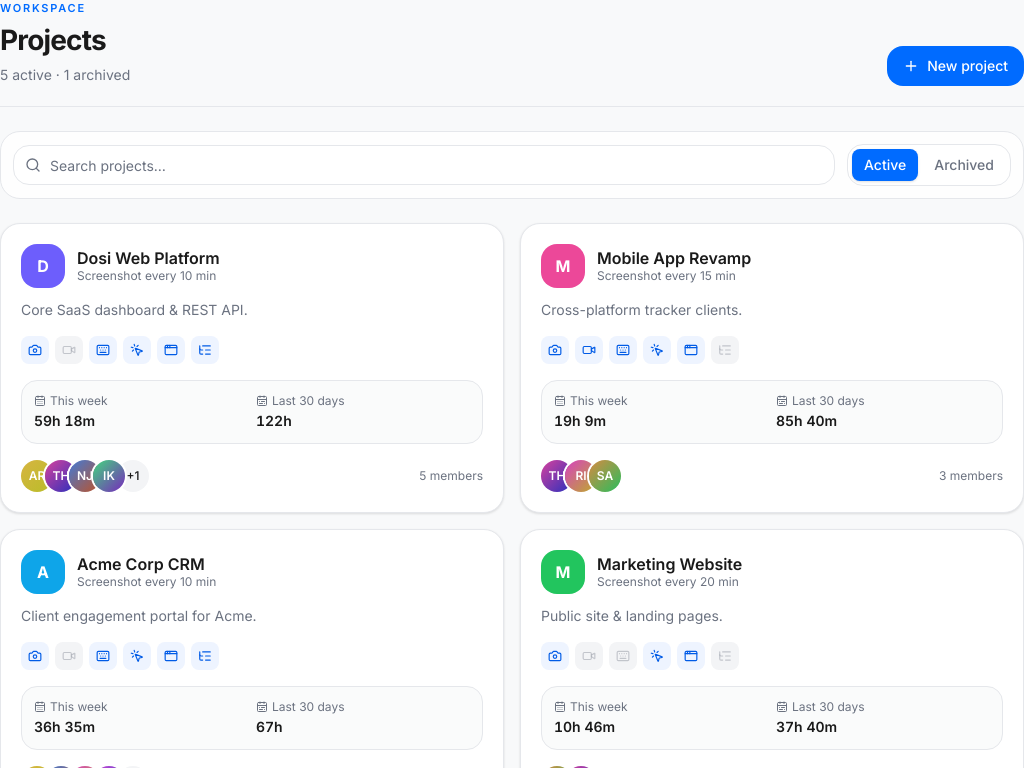
Test case: projects page — create project (owner, demo mode) › completing the wizard closes it and shows the new project card in the active list
expect the text "5 active · 1 archived" is shown: met, box [0,64,130,86]
Click the button "New project": (956, 66) [887,46,1023,86]
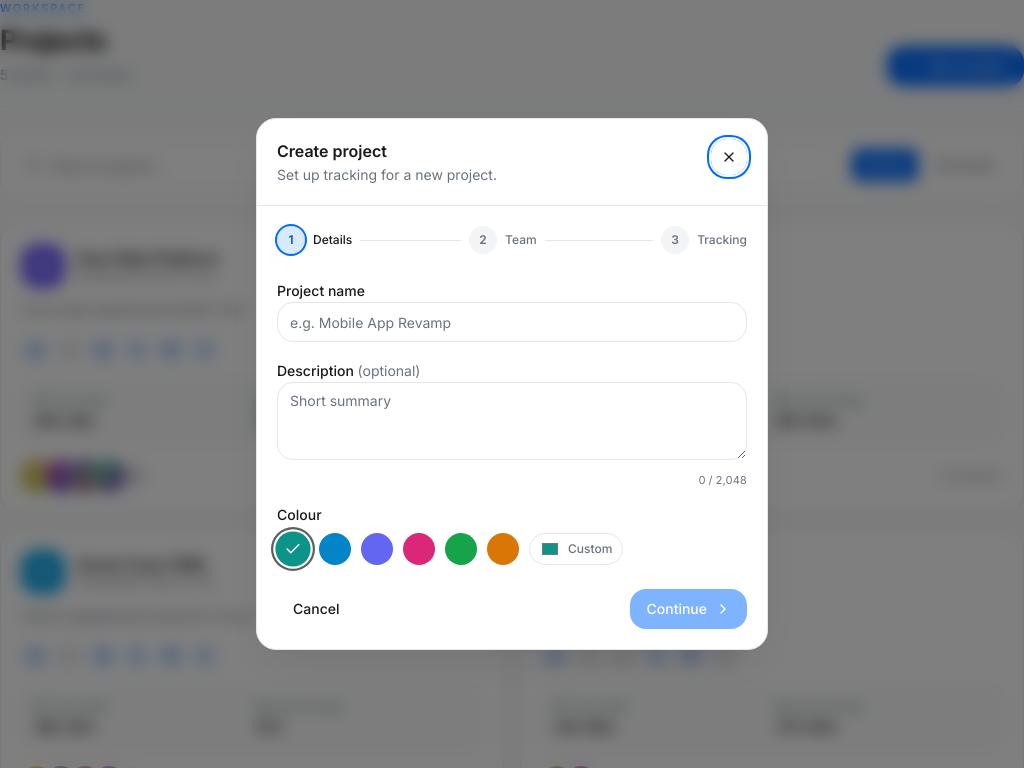
expect the heading "Create project" is shown: met, box [277,141,387,161]
In the field with placeholder "e.g. Mobile App Revamp": (512, 322) [277,302,747,342], type "Orbital Launch"
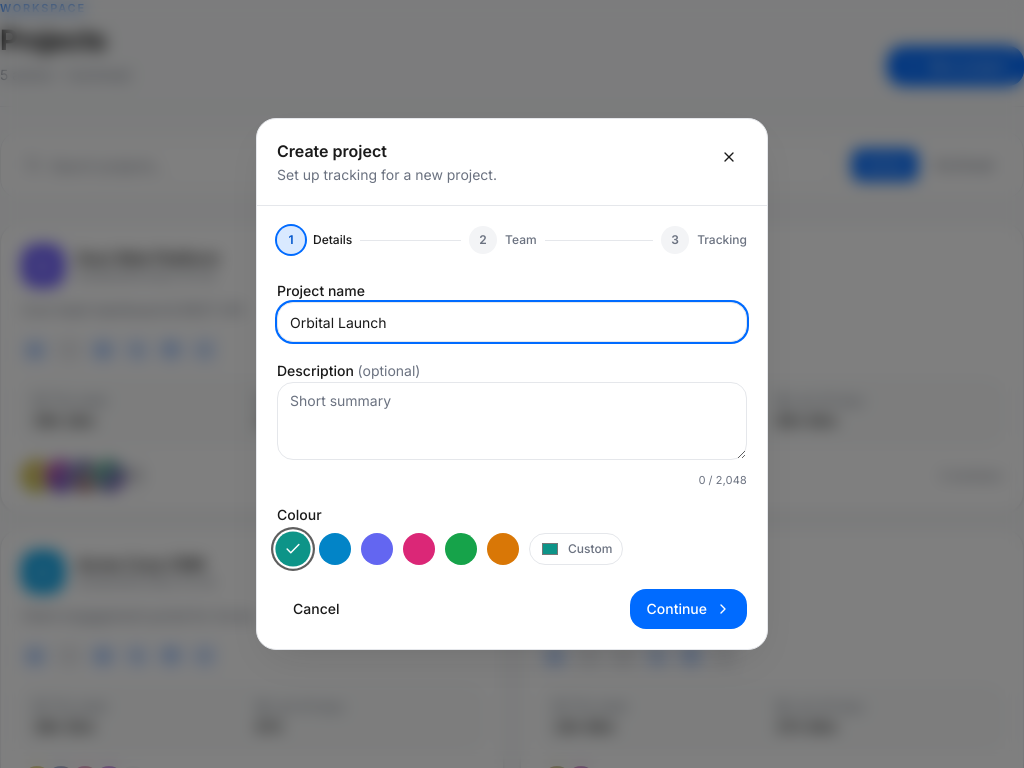
Click the button "Continue": (689, 609) [630,589,747,629]
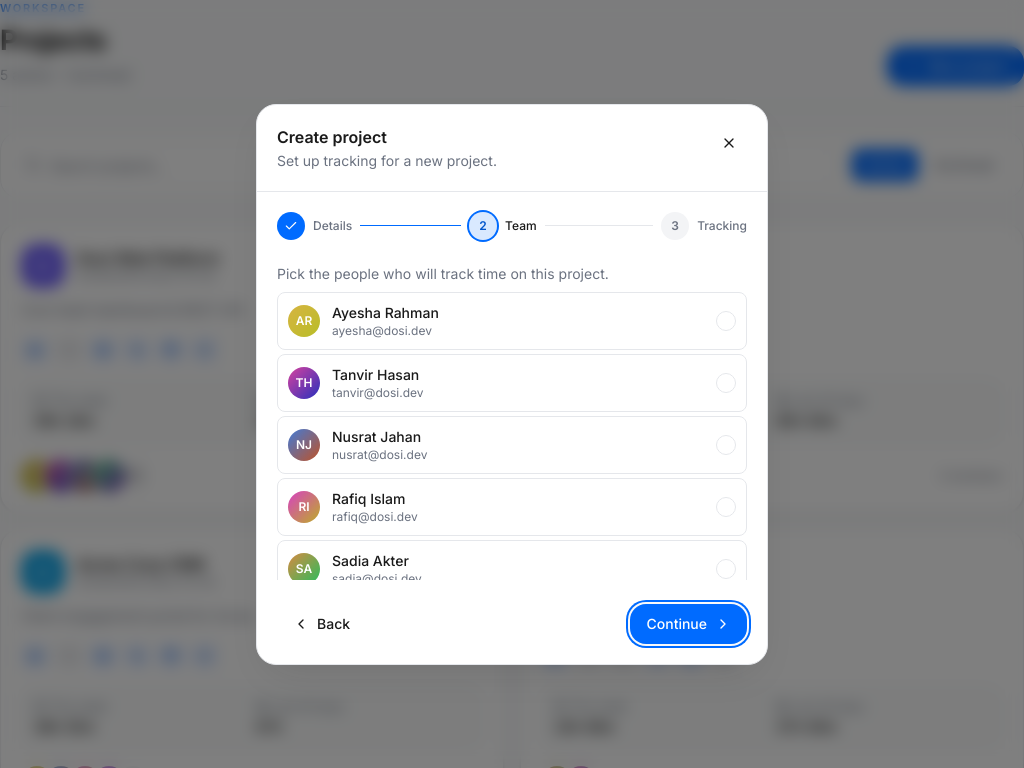
Click the button "Continue": (689, 624) [630,604,747,644]
(page scrolled)
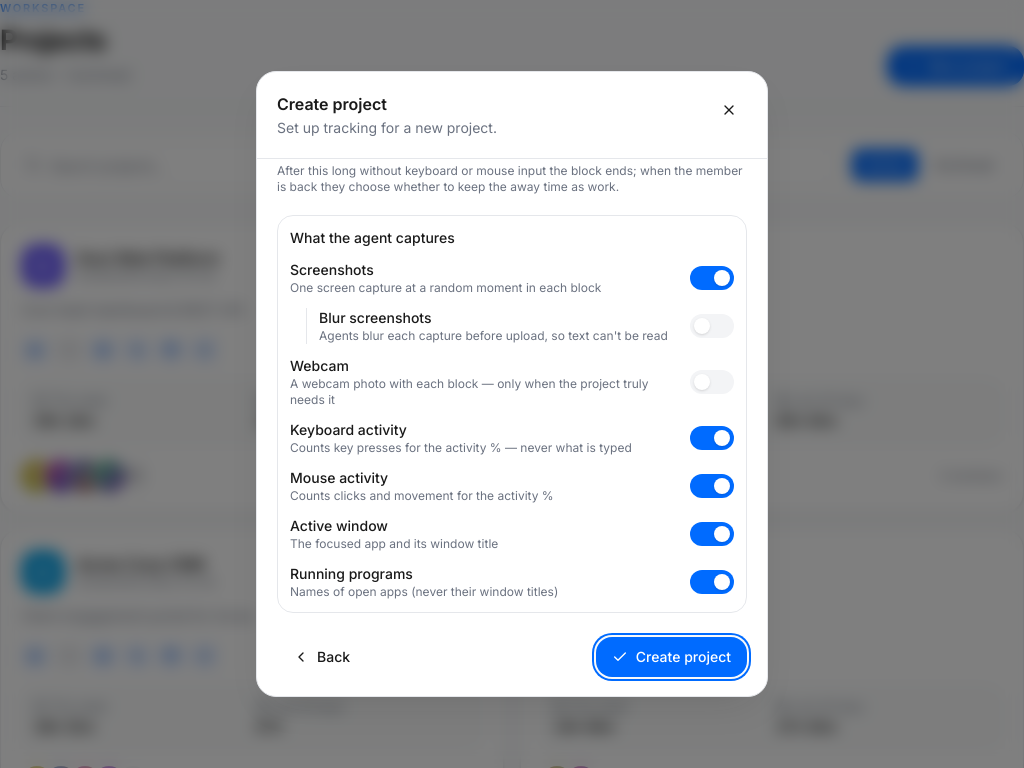
Click the button "Create project": (671, 657) [596,637,747,677]
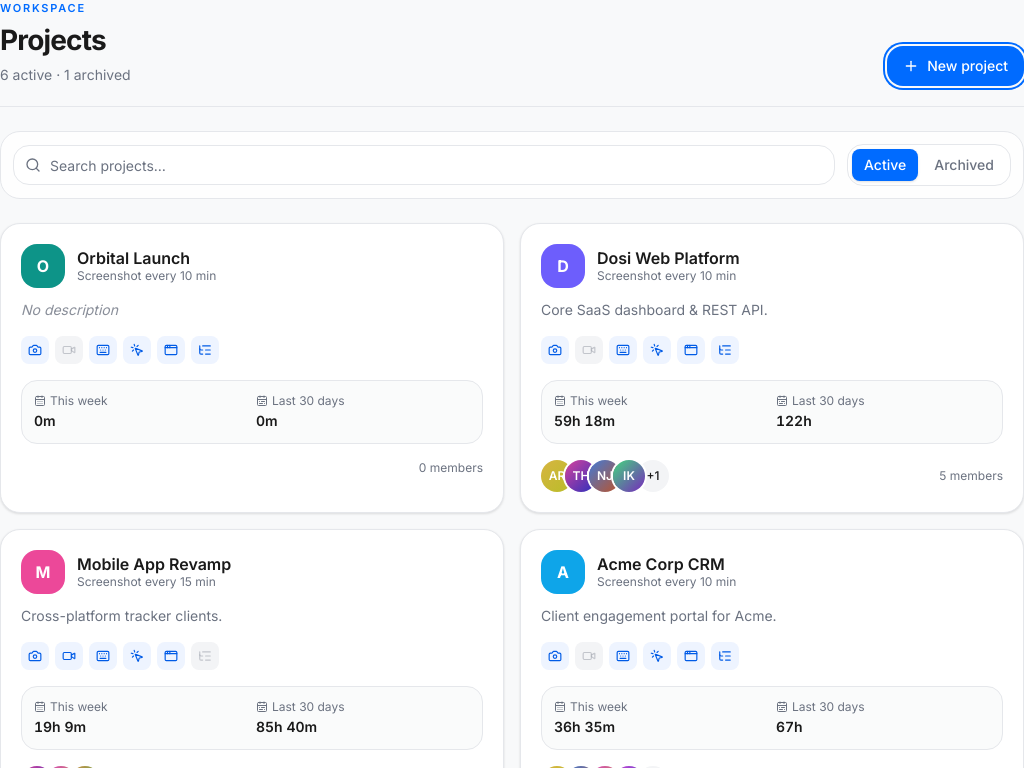
expect the dialog is gone: met
expect the heading "Orbital Launch" is shown: met, box [77,248,190,268]
expect the text "6 active · 1 archived" is shown: met, box [0,64,131,86]
